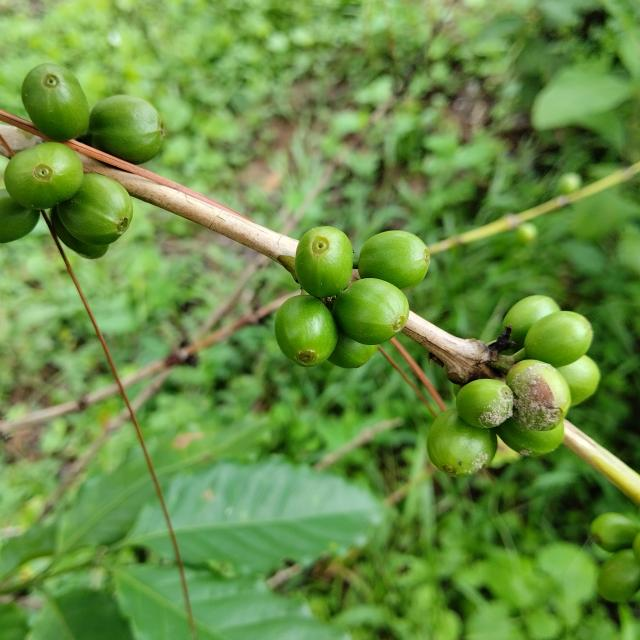green: (3, 141, 83, 210), (56, 173, 132, 245), (88, 94, 165, 164), (20, 62, 89, 140), (333, 278, 410, 345), (428, 410, 498, 477), (507, 360, 572, 432), (275, 295, 338, 367), (358, 230, 431, 290), (295, 226, 353, 298), (525, 311, 594, 368), (504, 295, 561, 351), (49, 206, 108, 259), (457, 379, 514, 429), (495, 418, 565, 457), (557, 355, 602, 407), (0, 189, 39, 243), (328, 327, 378, 369)
